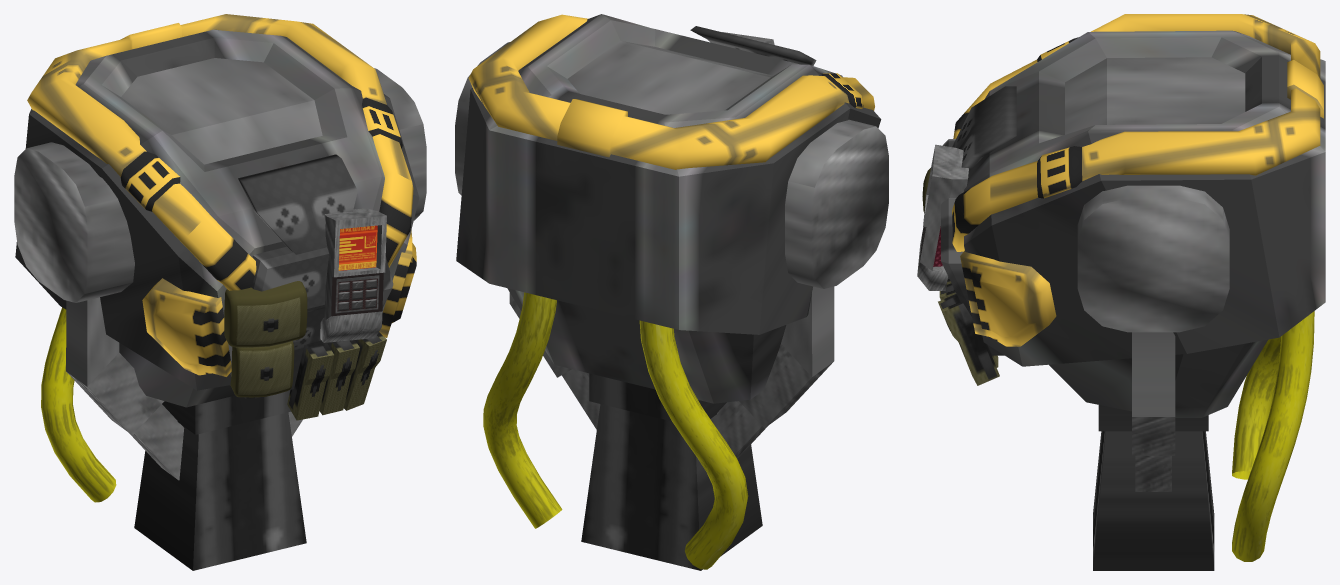
File: Robot 9 chasis.fbx
The picture shows the model from 3 angles, left to right: view 1: azimuth 30°, elevation 25°; view 2: azimuth 150°, elevation 25°; view 3: azimuth 270°, elevation 25°; orthographic projection. The views are drawn at different scales.
Parts seen in each view (by area): view 1: Cube.021, Cube.002; view 2: Cube.021, Cube.002; view 3: Cube.021, Cube.002.
Boxes of the visible parts, x1,y1,x2,y2 form: Cube.021: (14, 14, 426, 502); Cube.002: (134, 412, 306, 570); Cube.021: (455, 14, 888, 569); Cube.002: (581, 404, 762, 570); Cube.021: (917, 14, 1325, 561); Cube.002: (1093, 431, 1214, 570).
Size of the model in its own units: 268 by 345 by 271.
